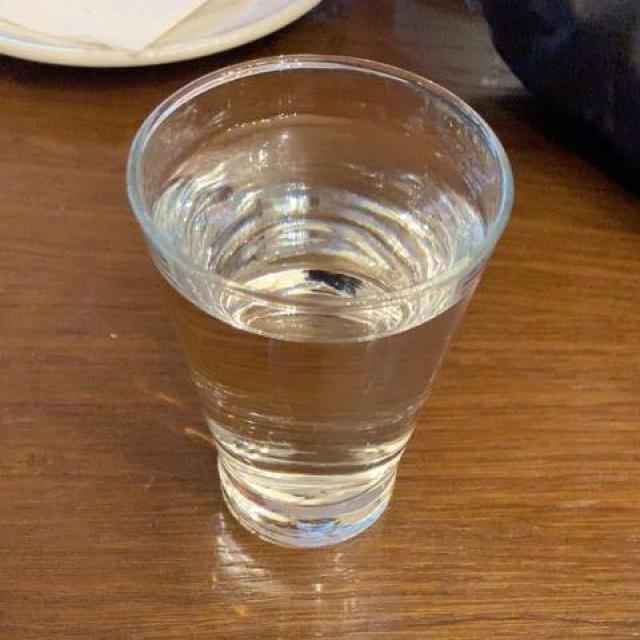water: (151, 105, 489, 502)
